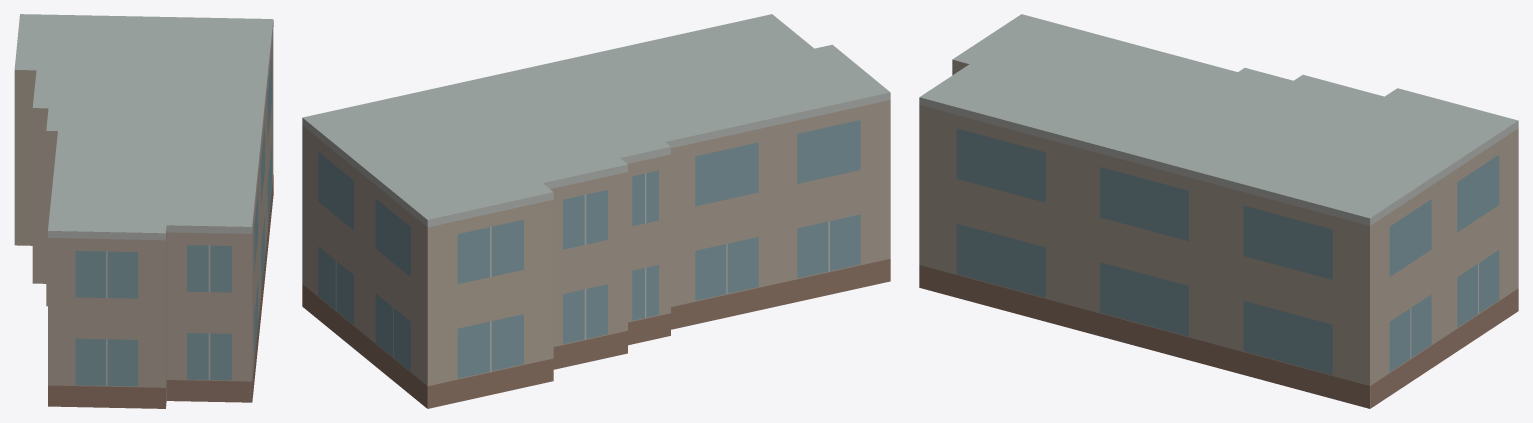
File: survey-upis-32778600.glb
The picture shows the model from 3 angles, left to right: view 1: azimuth 30°, elevation 25°; view 2: azimuth 150°, elevation 25°; view 3: azimuth 270°, elevation 25°; orthographic projection. The views are drawn at different scales.
Visible parts, largest first — view 1: survey-upis-32778600.tmp; view 2: survey-upis-32778600.tmp; view 3: survey-upis-32778600.tmp.
Boxes of the visible parts, box(x1,y1,x2,y2) form: survey-upis-32778600.tmp: box(14, 14, 273, 408); survey-upis-32778600.tmp: box(302, 14, 890, 408); survey-upis-32778600.tmp: box(919, 14, 1518, 408).
Size of the model in its own units: 14.05 by 6.1 by 17.4.
